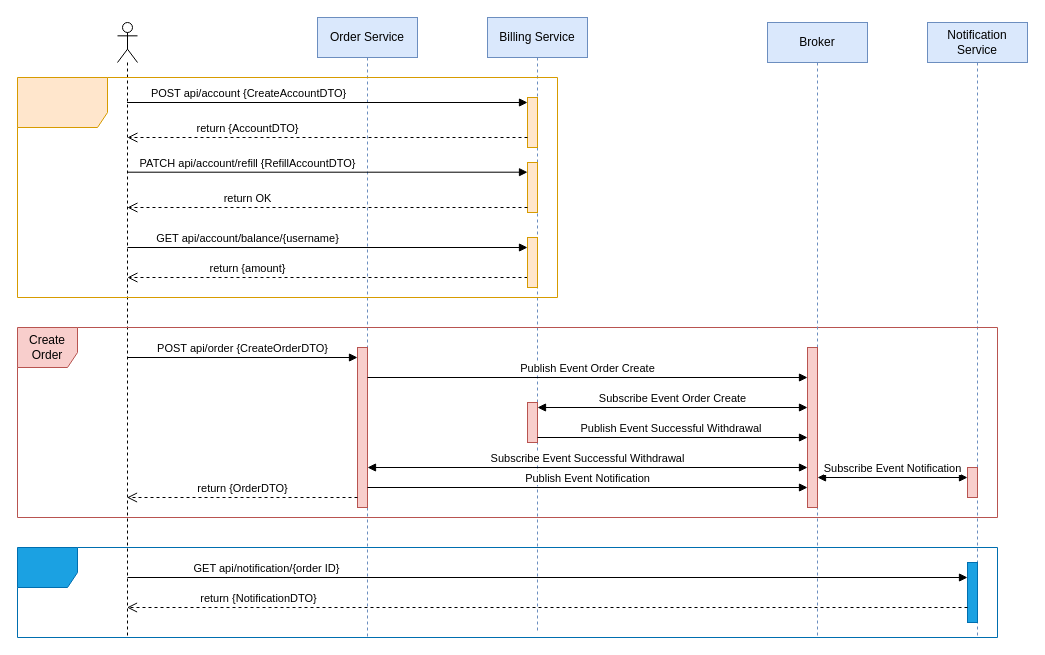
The diagram is 1045 pixels wide and 655 high, and some of its shapes have lost their labels. Here are the shapes that lost their labels. From the top down, the centre of each, then its label:
At [287,187]: "Create & Refill account".
At [507,592]: "Check notice".
